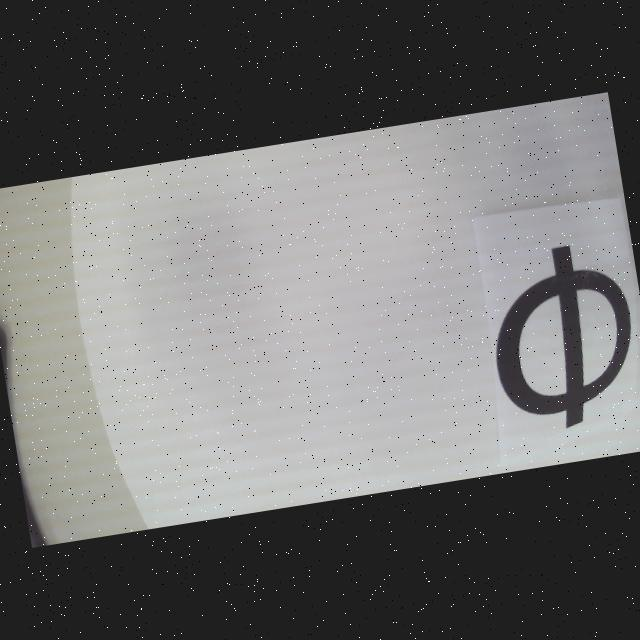PHI: (479, 236, 640, 437)
